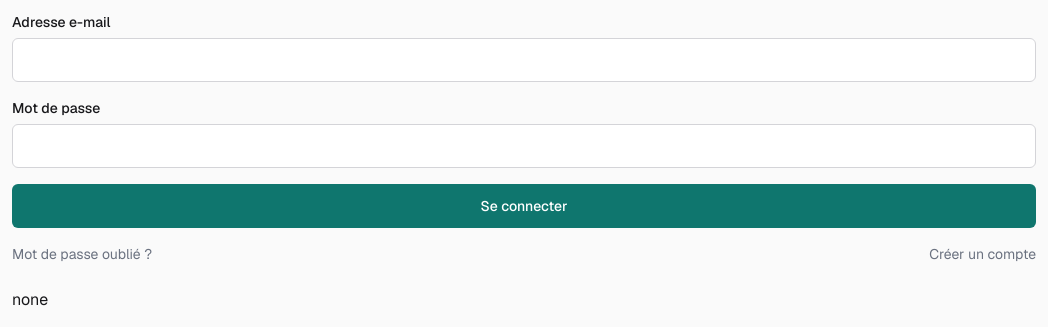
Test: LoginForm › connecte l'utilisateur et met à jour la session
Type "awa@example.test" into the field labelled "Adresse e-mail".
click(524, 60); type("awa@example.test")  # box 12,38 -> 1036,82
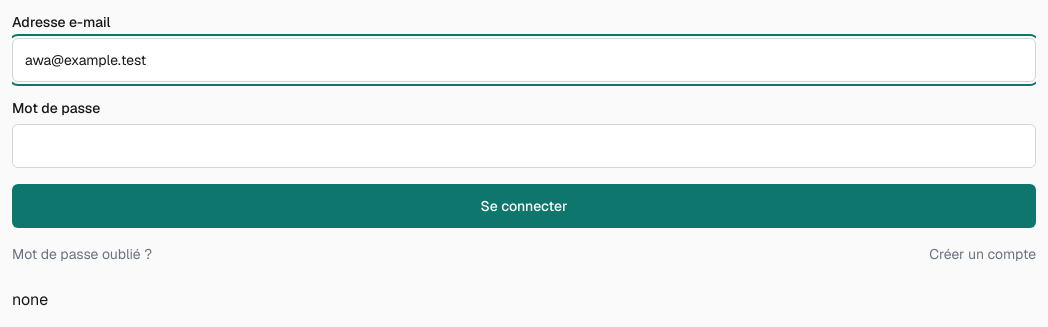
Type "password" into the password field labelled "Mot de passe".
click(524, 146); type("password")  # box 12,124 -> 1036,168
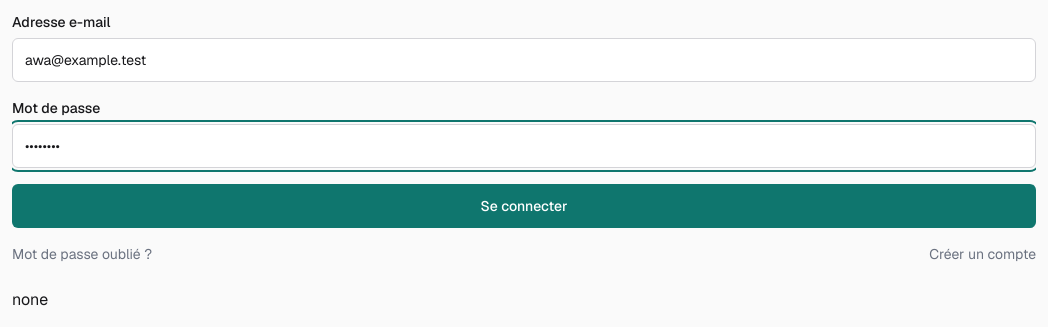
Click the button "Se connecter".
click(524, 206)  # box 12,184 -> 1036,228
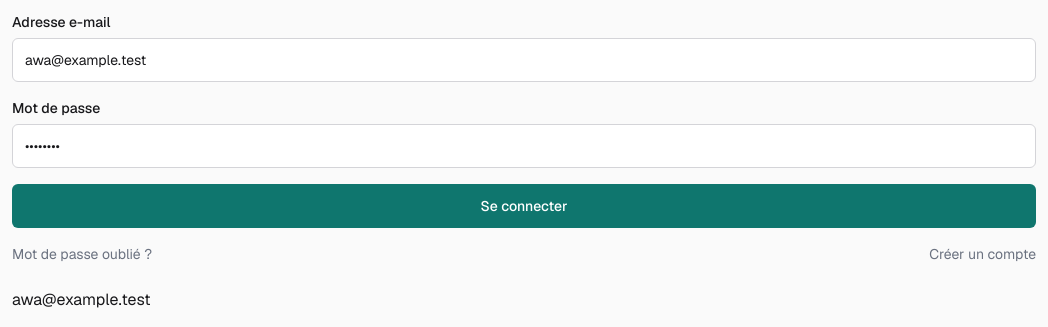
Expected: the text with test id "session-email" reads "awa@example.test", 12,289 -> 150,310
